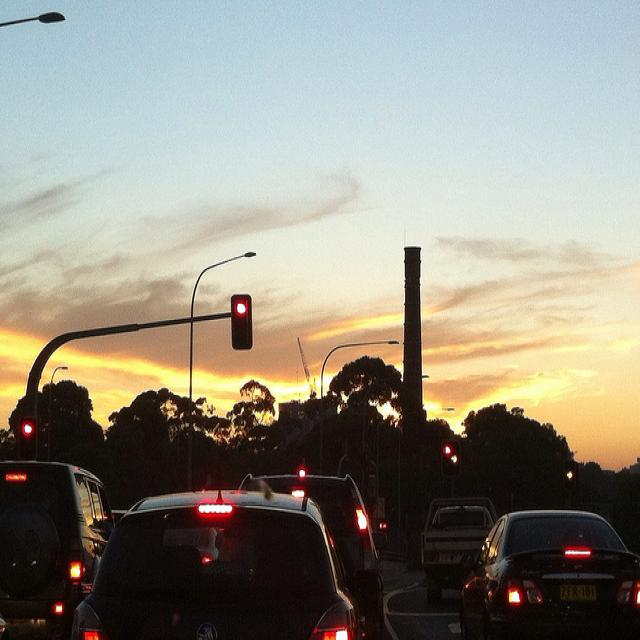Vehicle: (62, 492, 352, 630), (236, 473, 384, 634), (0, 457, 115, 640), (472, 513, 637, 627), (420, 496, 498, 604), (419, 496, 499, 601)
